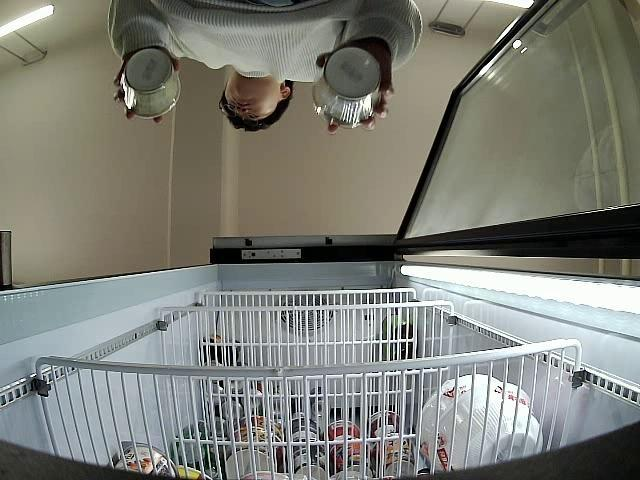04_chapagetti_S: (311, 48, 384, 123), (120, 52, 182, 118)
